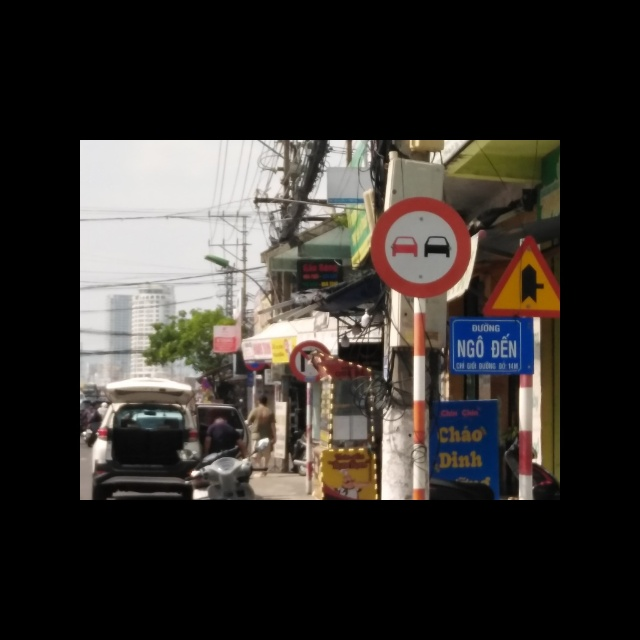Cấm vượt: (371, 195, 474, 298)
Giao nhau với đường không ưu tiên: (482, 232, 559, 317)
